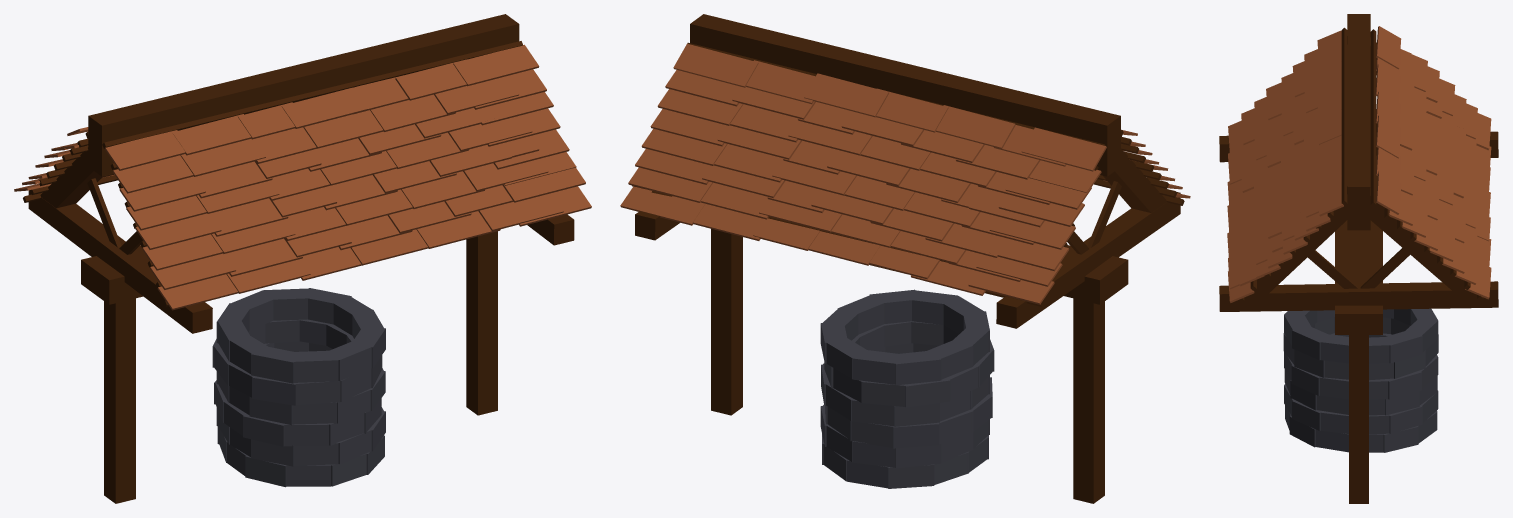
The model's file is well.fbx.
3 views of the same model, side by side, from view 1: azimuth 30°, elevation 25°; view 2: azimuth 150°, elevation 25°; view 3: azimuth 270°, elevation 25° (orthographic). The views are drawn at different scales.
Parts seen in each view (by area): view 1: WoodenFrame.009, WoodenFrame, WoodenFrame.001, WoodenFrame.004, WoodenFrame.020, Cube.106, Cube.103, Cube.100, Cube.101, WoodenFrame.002, Cube.094, Cube.077 (+80 smaller); view 2: WoodenFrame.009, WoodenFrame, WoodenFrame.001, WoodenFrame.004, Cube.132, Cube.134, Cube.138, Cube.136, WoodenFrame.002, Cube.135, Cube.160, WoodenFrame.007 (+76 smaller); view 3: WoodenFrame.003, WoodenFrame.009, WoodenFrame.002, WoodenFrame.001, WoodenFrame.006, WoodenFrame.005, WoodenFrame.020, WoodenFrame.029, Cube.061, Cube.070, Cube.106, Cube.132 (+108 smaller).
Part boxes in pixels (x1,y1,x2,y2): WoodenFrame.009: [88, 14, 519, 176]; WoodenFrame: [104, 298, 135, 503]; WoodenFrame.001: [466, 231, 497, 415]; WoodenFrame.004: [28, 190, 212, 333]; WoodenFrame.020: [102, 41, 522, 148]; Cube.106: [453, 44, 539, 86]; Cube.103: [281, 87, 367, 128]; Cube.100: [105, 130, 185, 170]; Cube.101: [172, 114, 251, 155]; WoodenFrame.002: [81, 245, 148, 304]; Cube.094: [180, 138, 265, 176]; Cube.077: [478, 193, 563, 231]; WoodenFrame.009: [690, 14, 1120, 176]; WoodenFrame: [1073, 298, 1104, 503]; WoodenFrame.001: [711, 229, 742, 415]; WoodenFrame.004: [996, 192, 1180, 328]; Cube.132: [673, 43, 758, 87]; Cube.134: [804, 73, 888, 117]; Cube.138: [1021, 127, 1106, 171]; Cube.136: [936, 105, 1015, 148]; WoodenFrame.002: [1064, 245, 1128, 304]; Cube.135: [876, 88, 948, 132]; Cube.160: [620, 186, 705, 225]; WoodenFrame.007: [1103, 149, 1166, 212]; WoodenFrame.003: [1219, 281, 1498, 311]; WoodenFrame.009: [1347, 14, 1370, 230]; WoodenFrame.002: [1335, 155, 1382, 334]; WoodenFrame.001: [1349, 335, 1368, 503]; WoodenFrame.006: [1370, 187, 1476, 306]; WoodenFrame.005: [1239, 186, 1347, 310]; WoodenFrame.020: [1341, 27, 1347, 205]; WoodenFrame.029: [1370, 29, 1376, 207]; Cube.061: [1385, 331, 1422, 363]; Cube.070: [1292, 324, 1333, 360]; Cube.106: [1317, 175, 1343, 216]; Cube.132: [1376, 171, 1401, 214].
Bounding box in the file's own units: 422 × 363 × 282.
